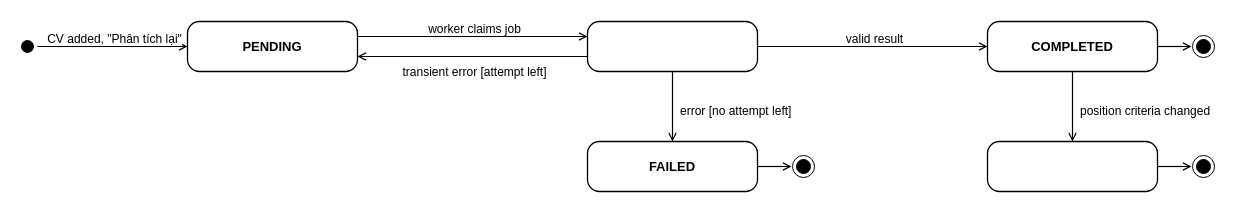
The diagram is 1236 pixels wide and 209 high, and some of its shapes have lost their labels. The centre of each missing label's shape, as x and y in pixels:
OUTDATED: point 1072,166
PROCESSING: point 672,46
